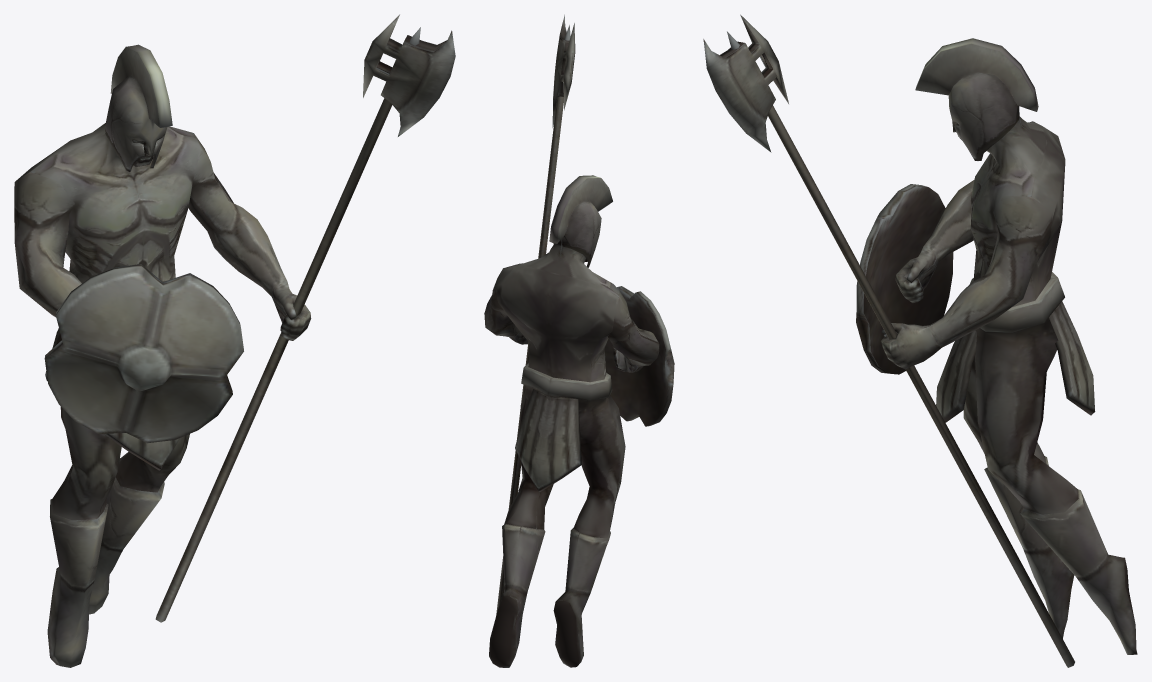
Rendered from GY_diaosu006.fbx.
3 renders of one model, left to right at view 1: azimuth 30°, elevation 25°; view 2: azimuth 150°, elevation 25°; view 3: azimuth 270°, elevation 25°, orthographic. The views are drawn at different scales.
Visible parts, largest first — view 1: GY_diaosu006; view 2: GY_diaosu006; view 3: GY_diaosu006.
Boxes of the visible parts, <box> form: GY_diaosu006: <box>14,14,455,667</box>; GY_diaosu006: <box>484,14,674,667</box>; GY_diaosu006: <box>703,14,1137,667</box>.
Size of the model in its own units: 95.32 by 234 by 132.
